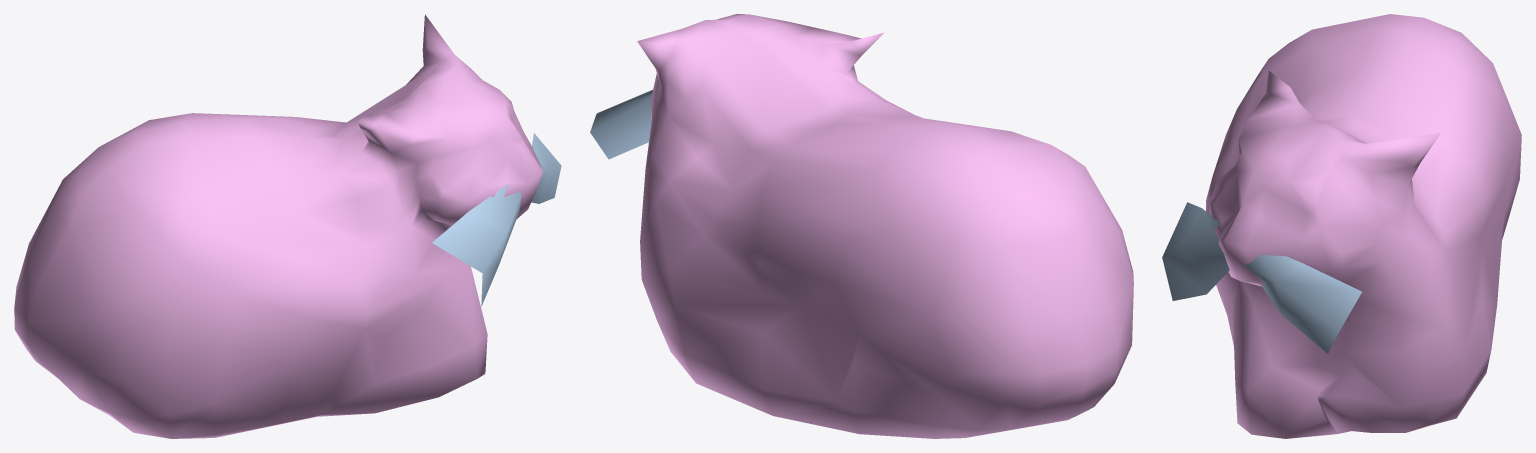
Rendered from Dingus_FBX.fbx.
3 views of the same model, side by side, from view 1: azimuth 30°, elevation 25°; view 2: azimuth 150°, elevation 25°; view 3: azimuth 270°, elevation 25° (orthographic). The views are drawn at different scales.
Parts seen in each view (by area): view 1: dingus; view 2: dingus; view 3: dingus.
Boxes of the visible parts, bbox=[...] form: dingus: bbox=[14, 14, 561, 438]; dingus: bbox=[590, 14, 1133, 438]; dingus: bbox=[1162, 14, 1521, 438].
Size of the model in its own units: 63.31 by 36.6 by 35.71.
